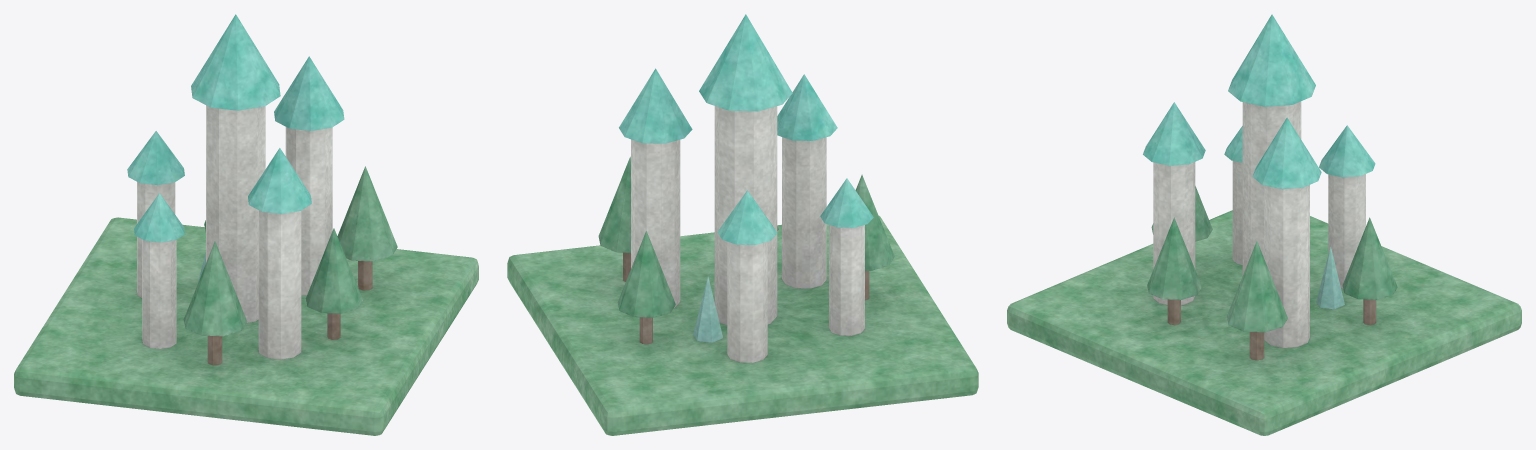
File: capital_yllien.glb
3 renders of one model, left to right at view 1: azimuth 30°, elevation 25°; view 2: azimuth 150°, elevation 25°; view 3: azimuth 270°, elevation 25°, orthographic. The views are drawn at different scales.
Parts seen in each view (by area): view 1: dilek; view 2: dilek; view 3: dilek.
Boxes of the visible parts, x1,y1,x2,y2 form: dilek: [14, 14, 478, 435]; dilek: [507, 14, 978, 435]; dilek: [1007, 14, 1521, 435].
Size of the model in its own units: 2.42 by 1.62 by 2.42.
1 material, 1 textured.
